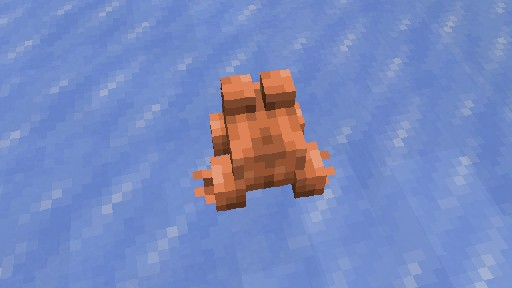frog: (192, 68, 335, 212)
